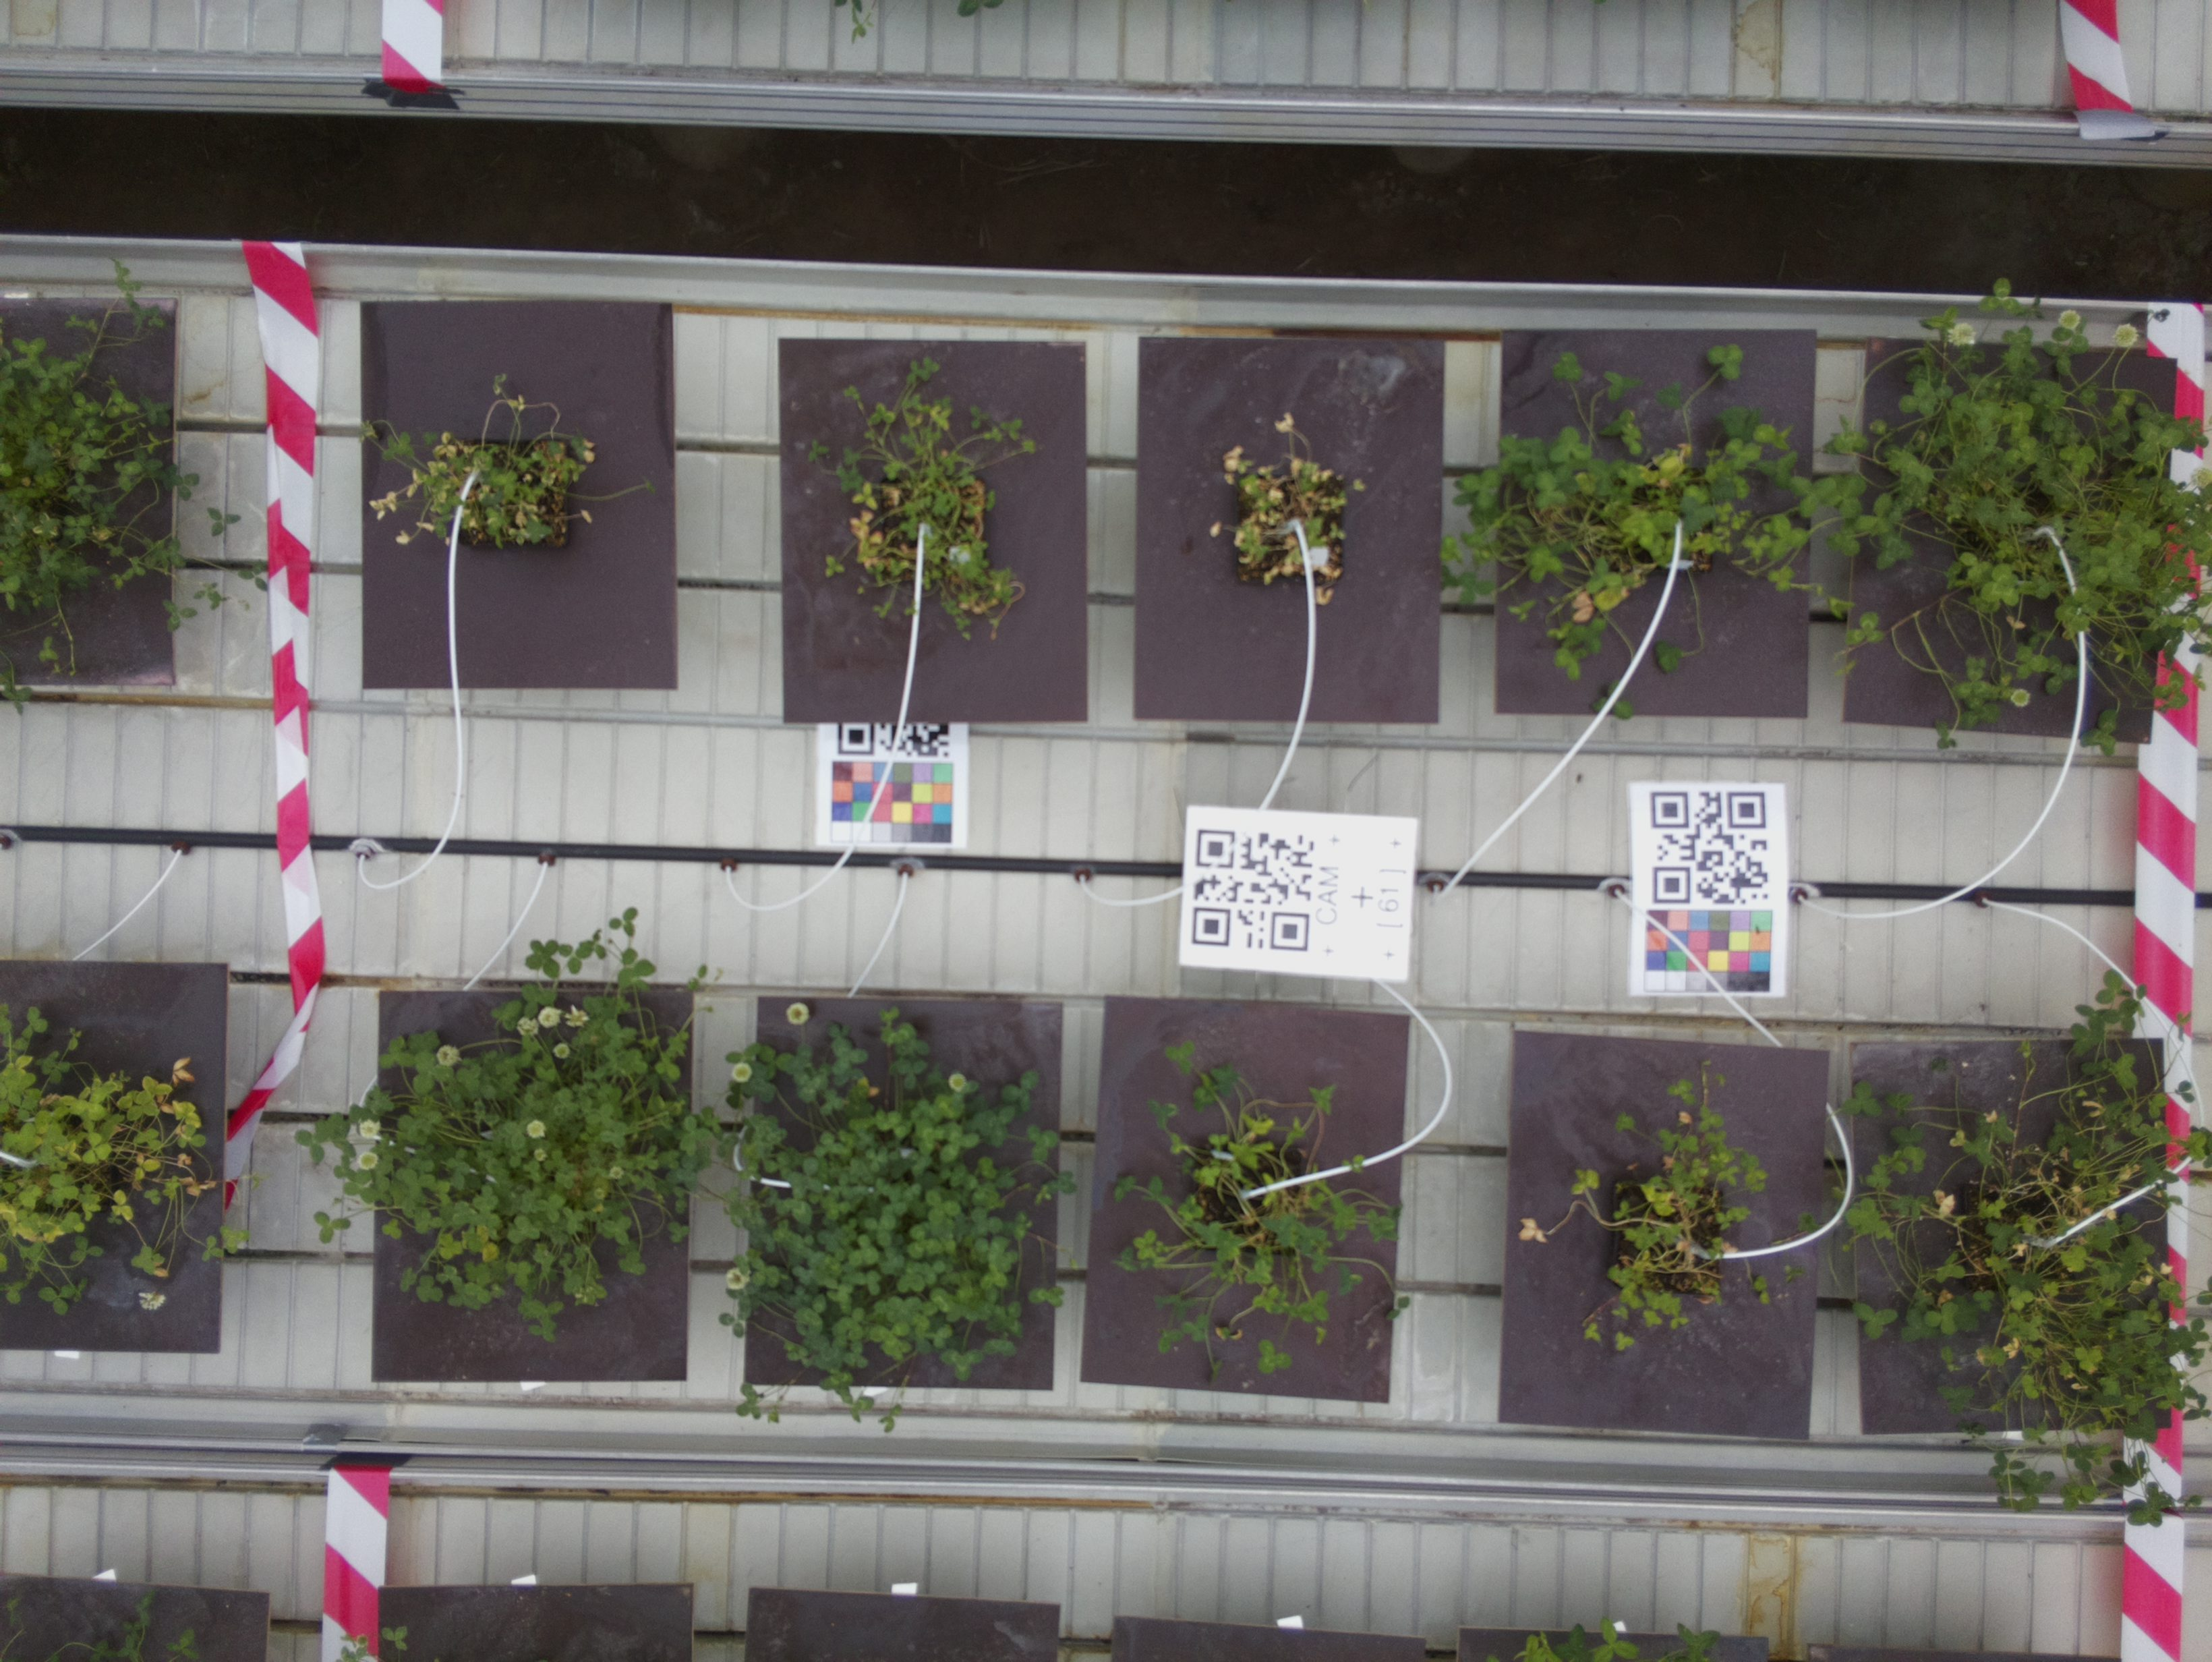POT: (1863, 339, 2177, 756), (1508, 1030, 1826, 1440), (374, 988, 697, 1388), (1851, 1042, 2175, 1433), (1075, 1006, 1416, 1376), (779, 339, 1096, 728), (365, 306, 679, 693), (1503, 328, 1817, 716), (756, 993, 1056, 1398), (1138, 333, 1444, 726)
QRCODE: (1180, 803, 1416, 978)
QRCOLOR: (1627, 780, 1784, 1000), (819, 721, 974, 854)
